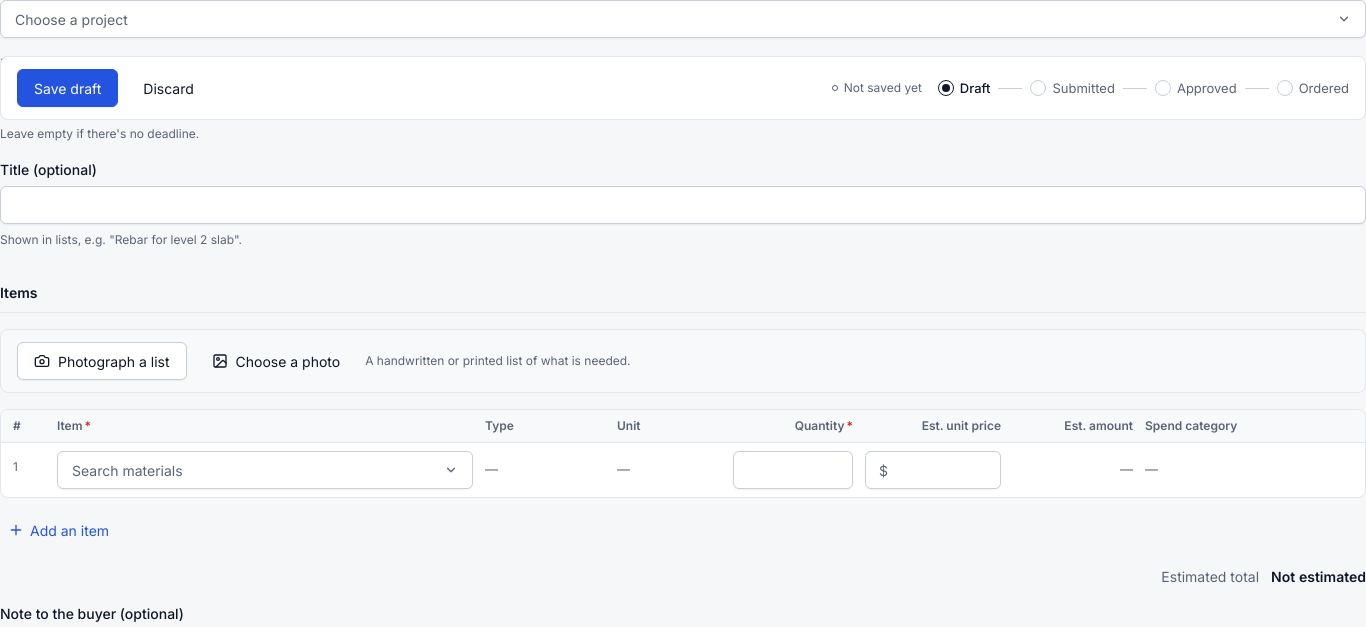
Test: MrForm › moves focus to the new row after Add an item
(page scrolled)
Click the button "Add an item".
click(59, 530)  # box [0,510,117,550]
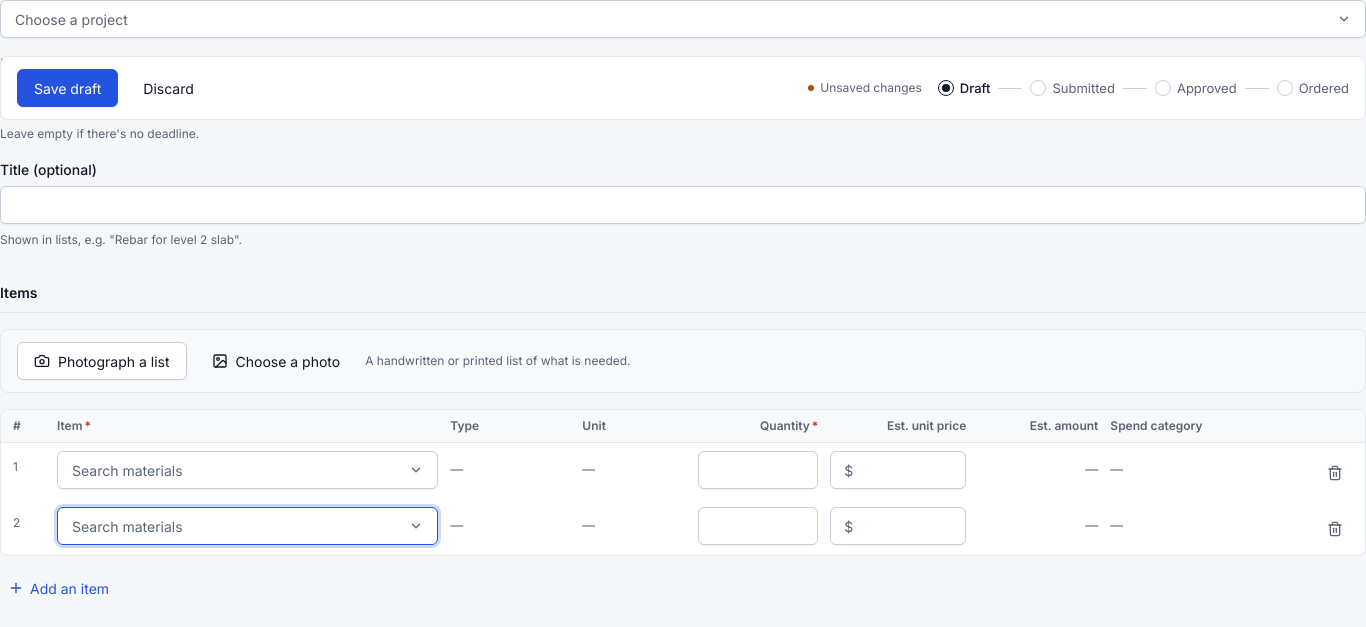
Expected: the number of dropdowns named "Item" is 2, [57,451,438,489]; [57,507,438,545]
